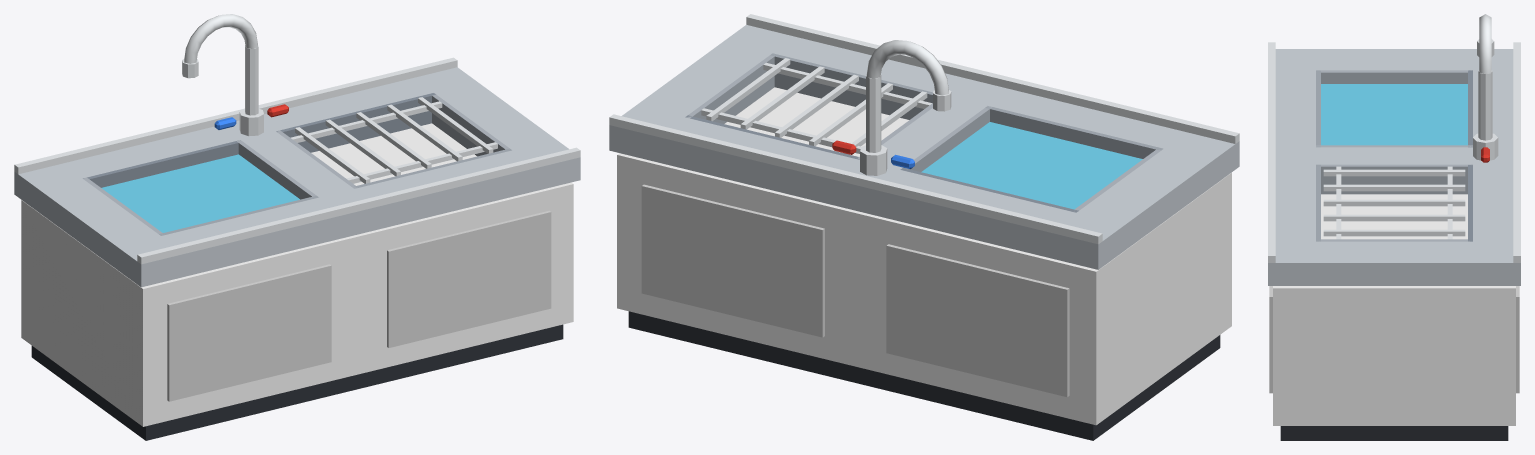
The model's file is sink.glb.
3 views of the same model, side by side, from view 1: azimuth 30°, elevation 25°; view 2: azimuth 150°, elevation 25°; view 3: azimuth 270°, elevation 25° (orthographic). The views are drawn at different scales.
Parts seen in each view (by area): view 1: sink, water; view 2: sink, water; view 3: sink, water.
Boxes of the visible parts, bbox=[...] form: sink: bbox=[14, 14, 580, 440]; water: bbox=[101, 154, 299, 232]; sink: bbox=[609, 14, 1239, 440]; water: bbox=[921, 122, 1142, 209]; sink: bbox=[1268, 14, 1520, 440]; water: bbox=[1321, 84, 1467, 145].
Size of the model in its own units: 2 by 1.34 by 1.
